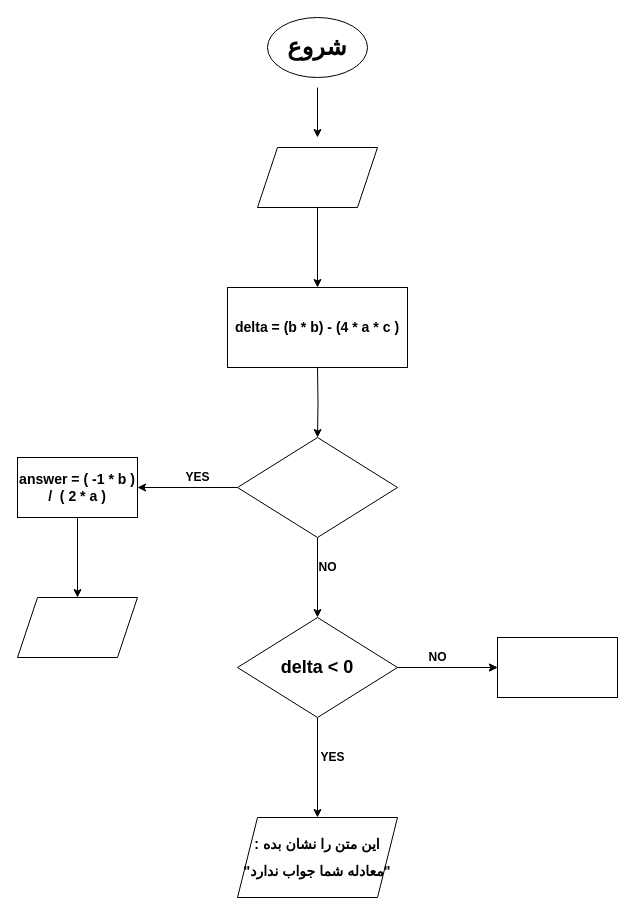
This 635x915 diagram has some shape labels left out. Here are the shapes that lost their labels. From the top down, the centre of each, then its label:
At (x=317, y=177): "را بخوان a , b , c".
At (x=317, y=487): "delta == 0".
At (x=77, y=627): "را نشان بده answer".
